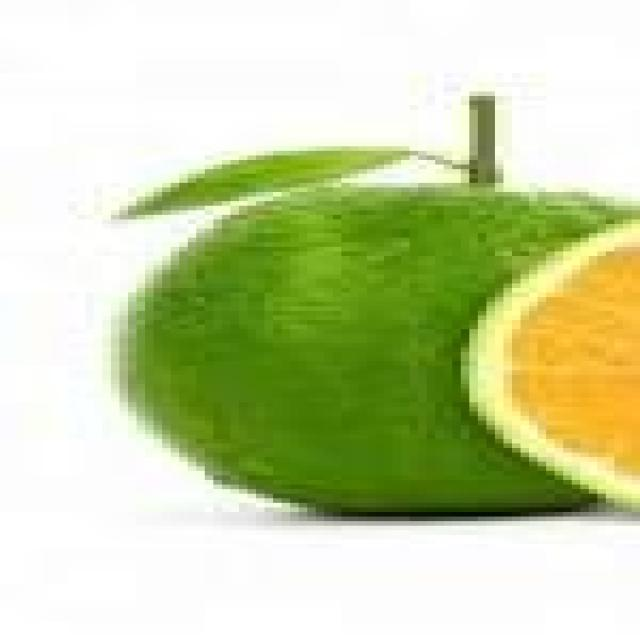orange: (119, 183, 631, 507), (469, 224, 631, 503)
